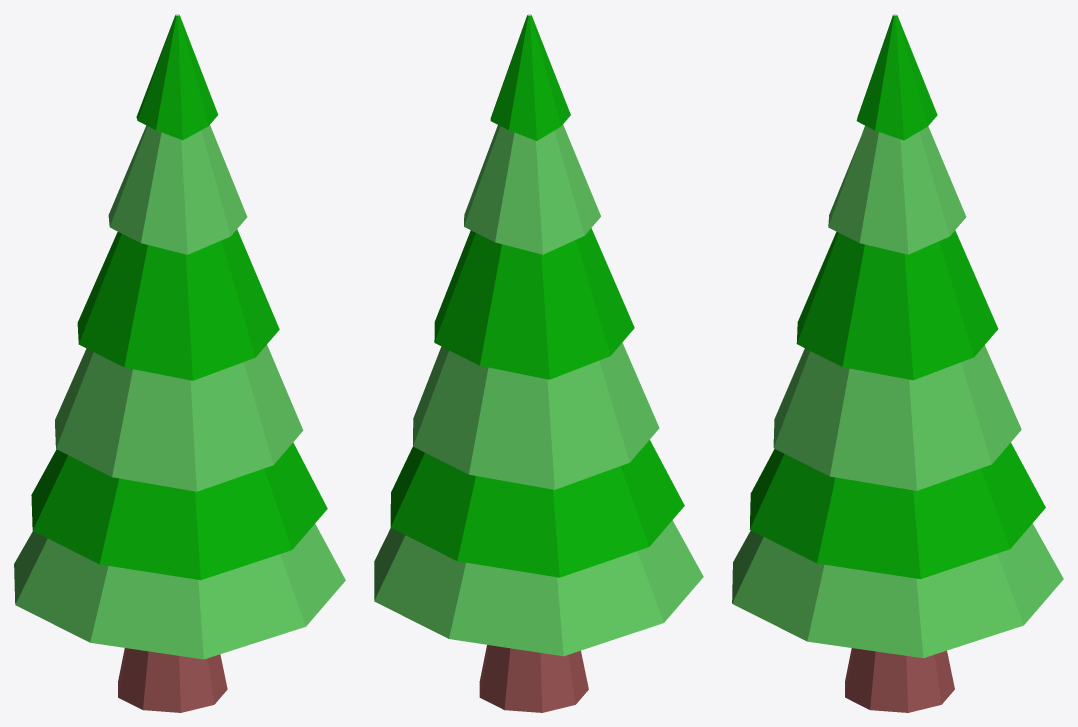
File: tree_jhau_gach.fbx
The picture shows the model from 3 angles, left to right: view 1: azimuth 30°, elevation 25°; view 2: azimuth 150°, elevation 25°; view 3: azimuth 270°, elevation 25°; orthographic projection.
Visible parts, largest first — view 1: Cylinder; view 2: Cylinder; view 3: Cylinder.
Part boxes in pixels (x1,y1,x2,y2): Cylinder: [14, 14, 345, 712]; Cylinder: [374, 14, 703, 712]; Cylinder: [732, 14, 1063, 712].
Bounding box in the file's own units: 3.15 × 7.01 × 3.11.
